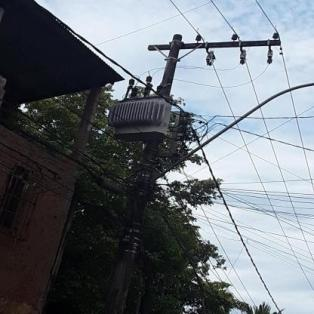Poste: (94, 33, 186, 314)
